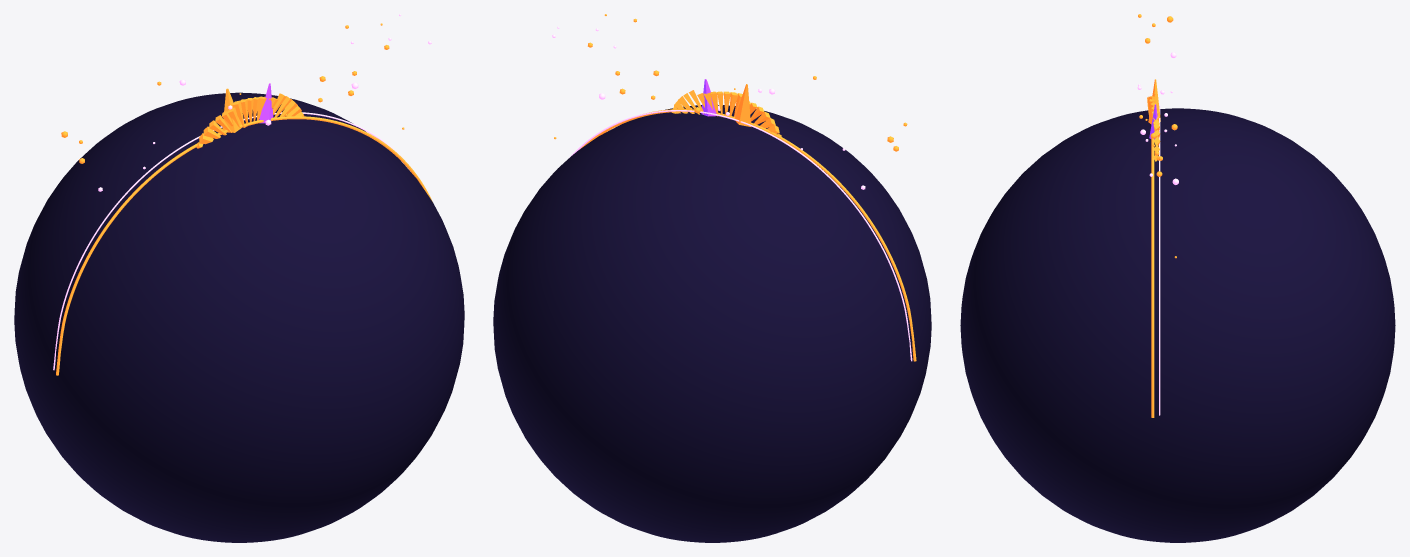
The model's file is footer-horizon.glb.
3 views of the same model, side by side, from view 1: azimuth 30°, elevation 25°; view 2: azimuth 150°, elevation 25°; view 3: azimuth 270°, elevation 25° (orthographic). The views are drawn at different scales.
Visible parts, largest first — view 1: HorizonPlanet, HorizonRim, HorizonViolet; view 2: HorizonPlanet, HorizonRim, HorizonViolet; view 3: HorizonPlanet, HorizonRim, HorizonViolet.
Part boxes in pixels (x1,y1,x2,y2): HorizonPlanet: [14, 92, 464, 542]; HorizonRim: [56, 116, 432, 375]; HorizonViolet: [53, 112, 401, 370]; HorizonPlanet: [493, 105, 931, 542]; HorizonRim: [580, 109, 916, 361]; HorizonViolet: [569, 110, 912, 361]; HorizonPlanet: [960, 108, 1395, 542]; HorizonRim: [1151, 138, 1154, 417]; HorizonViolet: [1159, 105, 1160, 415].
Size of the model in its own units: 10.47 by 12.34 by 10.4.
